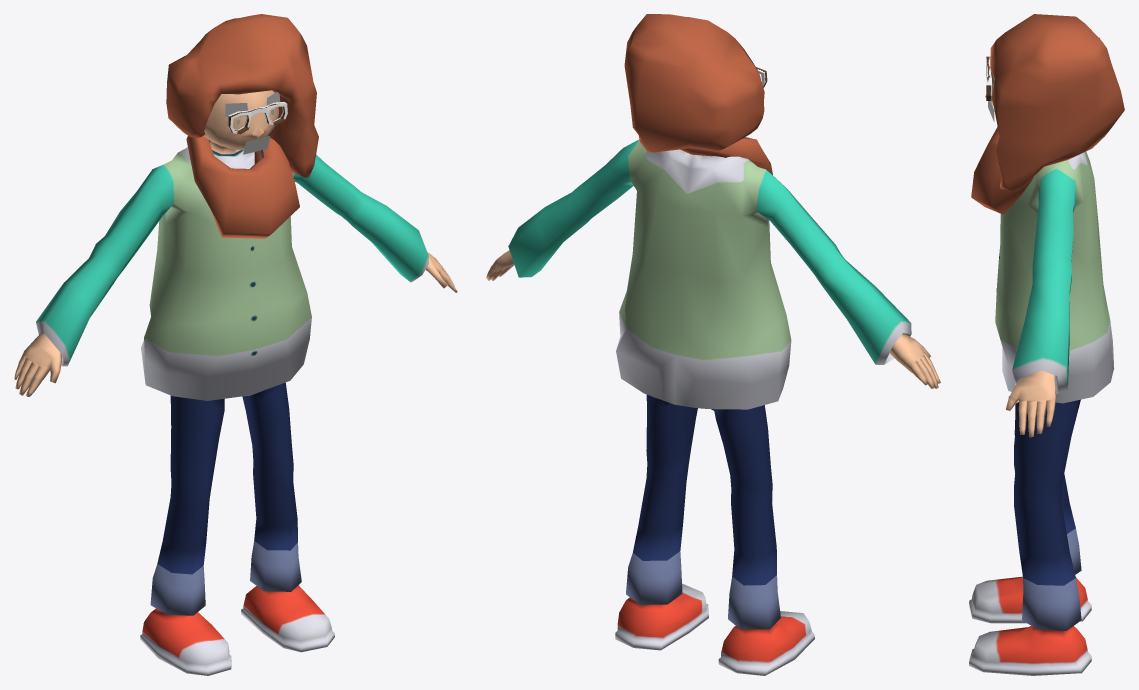
File: girl1_noglasses_6.fbx
3 views of the same model, side by side, from view 1: azimuth 30°, elevation 25°; view 2: azimuth 150°, elevation 25°; view 3: azimuth 270°, elevation 25° (orthographic). The views are drawn at different scales.
Visible parts, largest first — view 1: pTorus3; view 2: pTorus3; view 3: pTorus3.
Part boxes in pixels (box(x1,y1,x2,y2)): pTorus3: box(14, 14, 457, 675); pTorus3: box(486, 14, 940, 675); pTorus3: box(969, 14, 1124, 675).
Size of the model in its own units: 0.0116 by 0.0154 by 0.00346.
